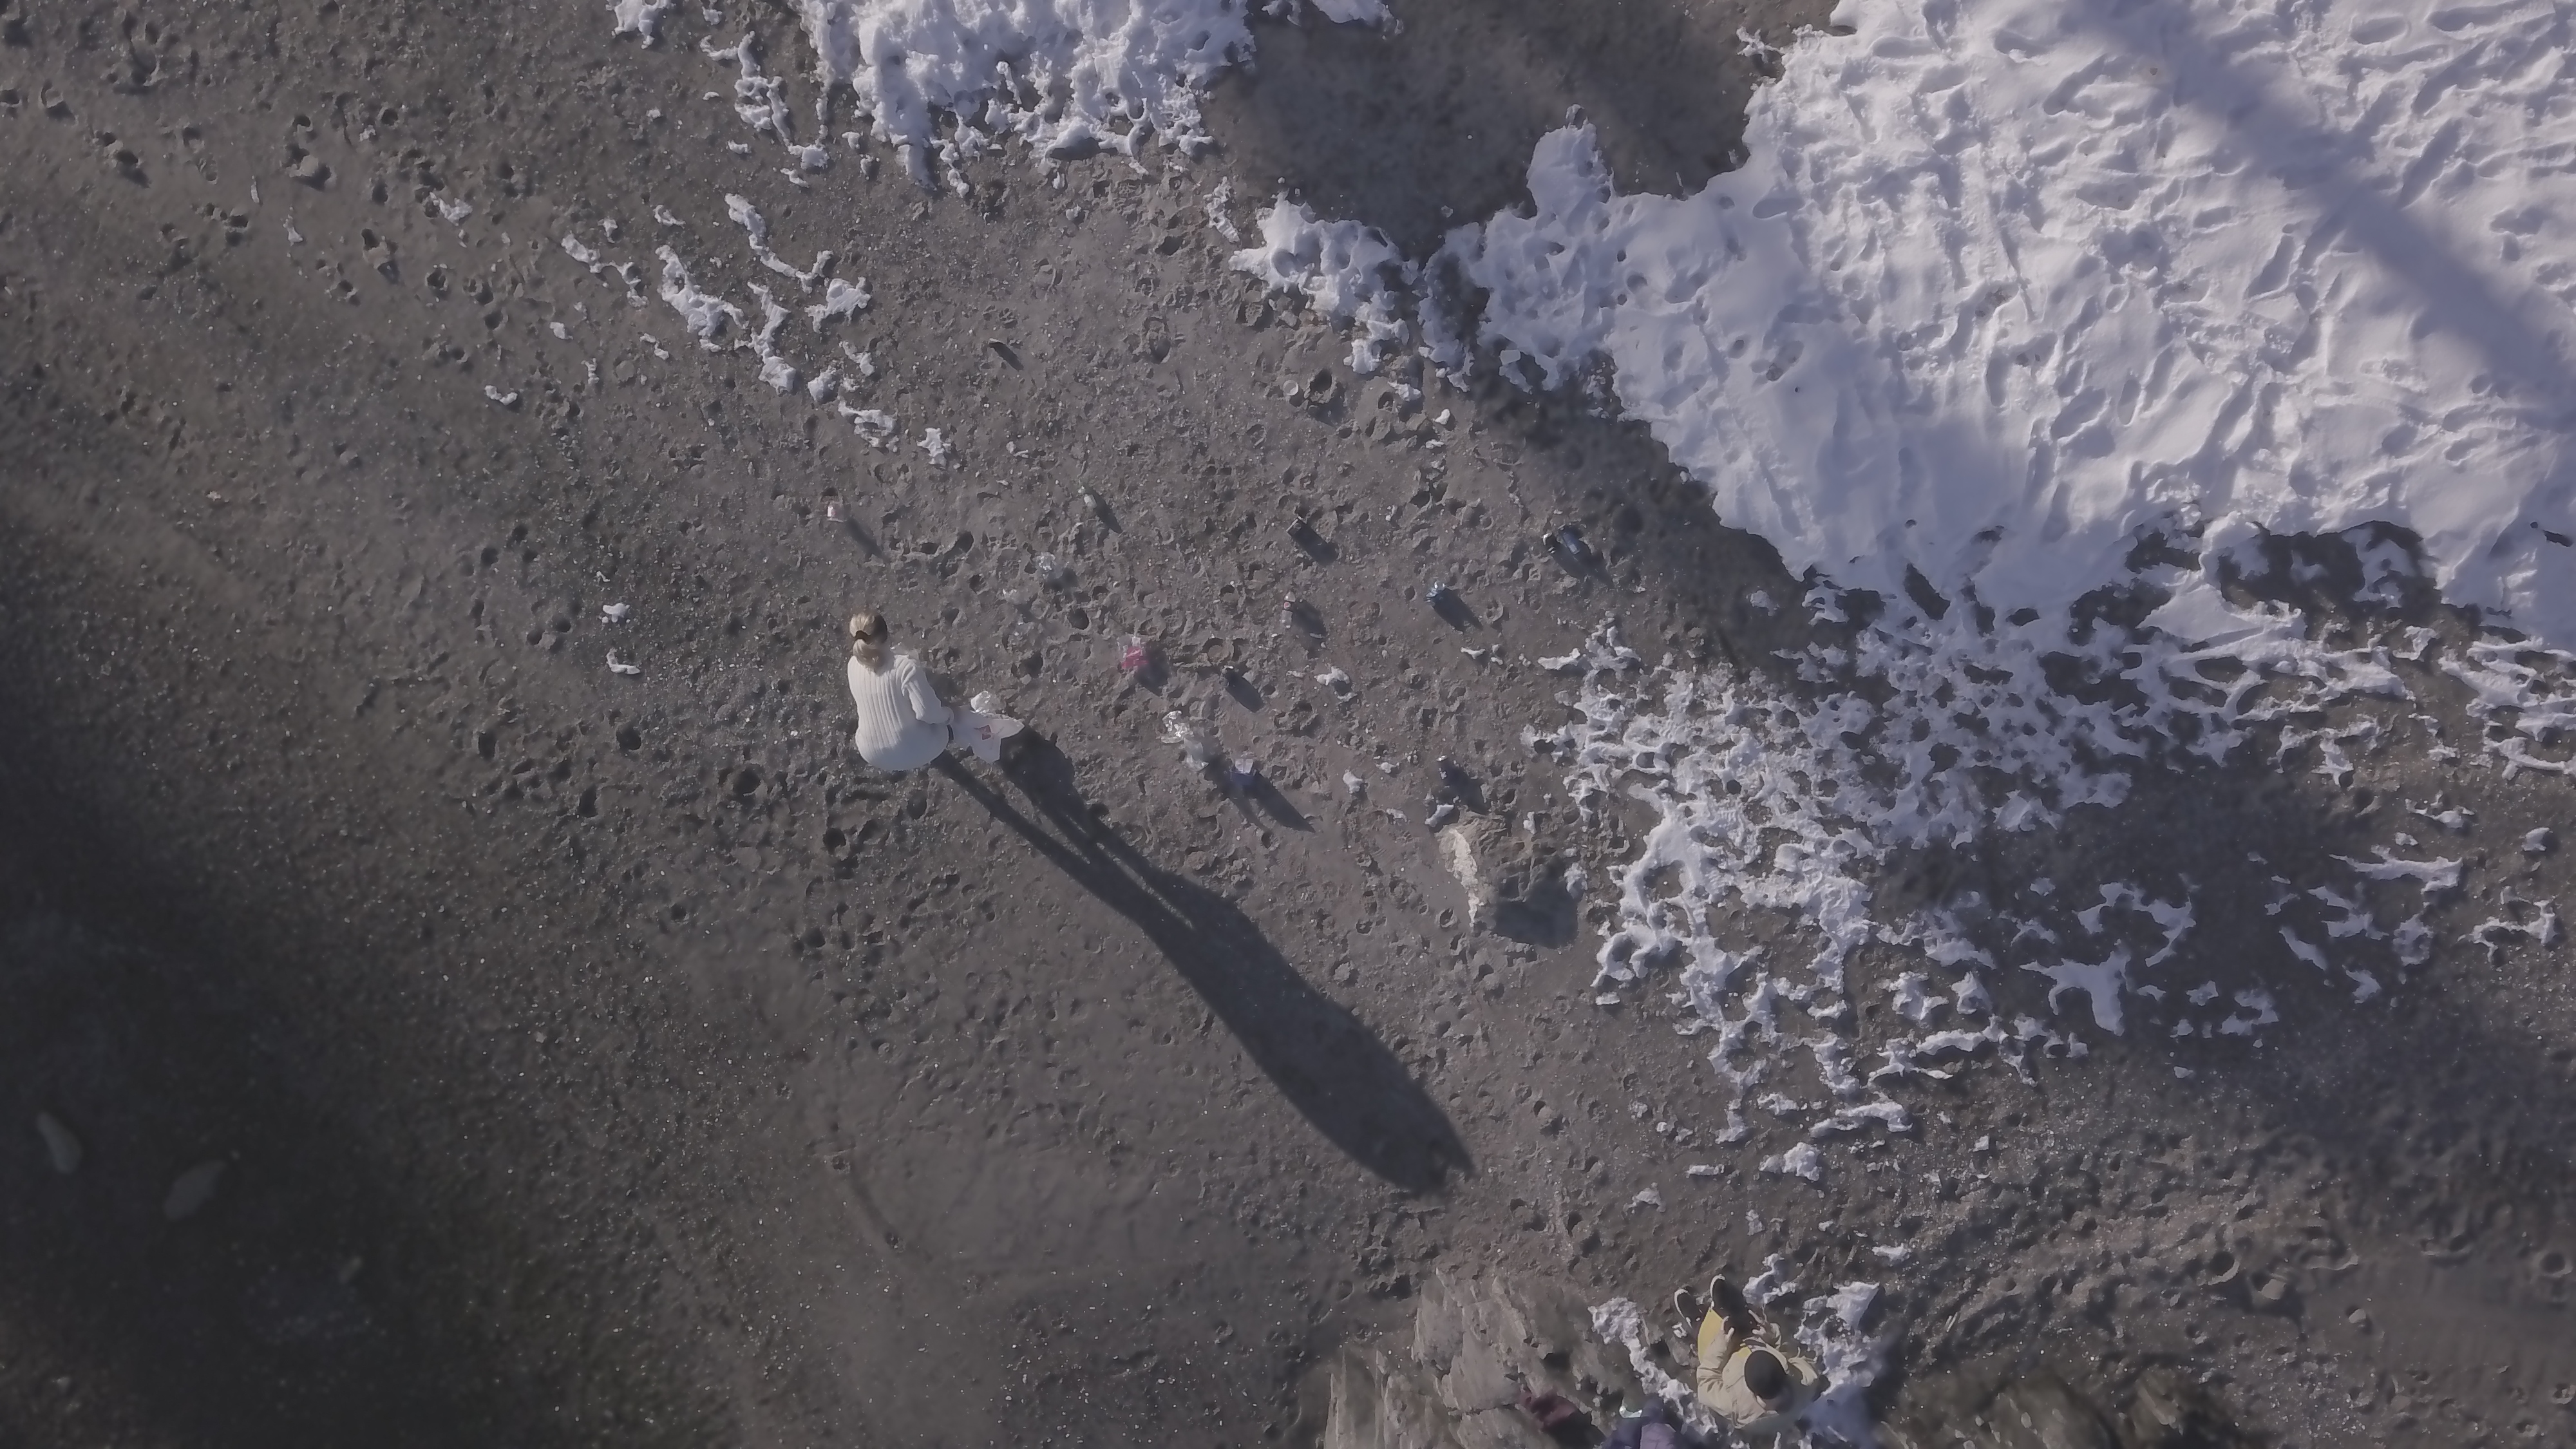Can: (1437, 755, 1456, 787), (1426, 580, 1445, 607), (1288, 515, 1307, 540)
Other: (1499, 349, 1522, 364)
Plastic: (1037, 550, 1076, 582), (1162, 709, 1196, 745), (1120, 637, 1152, 671), (973, 690, 1010, 718), (1184, 738, 1208, 773), (1230, 764, 1260, 786), (1001, 587, 1033, 607), (826, 497, 847, 525), (1231, 755, 1256, 775), (1283, 380, 1299, 396)
PlasticBottle: (1283, 587, 1297, 630), (1077, 483, 1097, 511)
